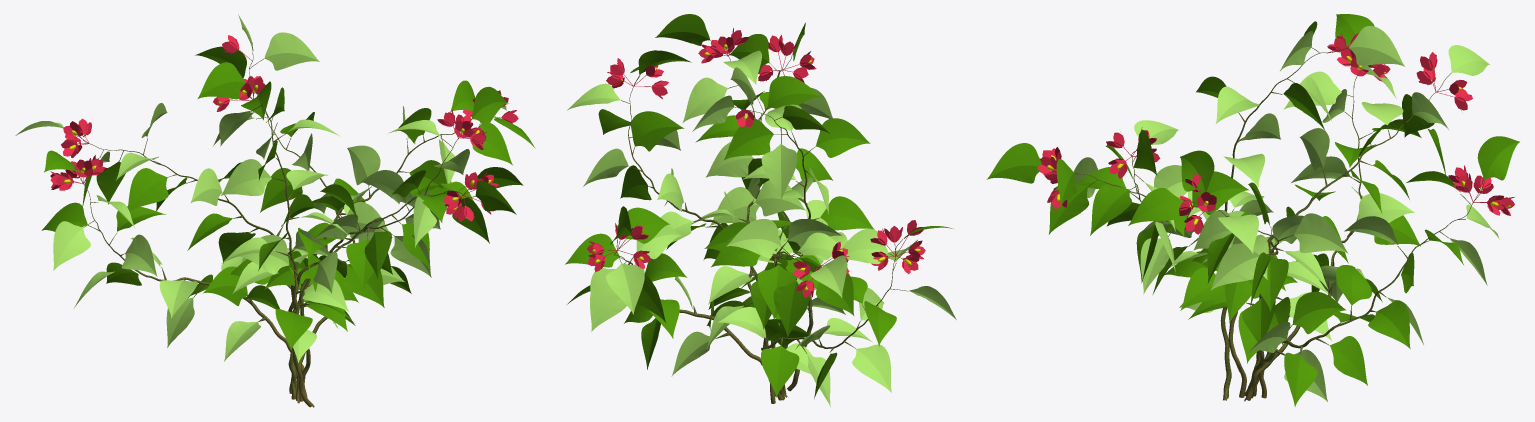
The model's file is begonia.fbx.
3 views of the same model, side by side, from view 1: azimuth 30°, elevation 25°; view 2: azimuth 150°, elevation 25°; view 3: azimuth 270°, elevation 25° (orthographic). The views are drawn at different scales.
Visible parts, largest first — view 1: TRopicFlower_MAX10GrowFX; view 2: TRopicFlower_MAX10GrowFX; view 3: TRopicFlower_MAX10GrowFX.
Part boxes in pixels (left/top/right/bottom): TRopicFlower_MAX10GrowFX: left=15, top=14, right=535, bottom=407; TRopicFlower_MAX10GrowFX: left=565, top=14, right=956, bottom=406; TRopicFlower_MAX10GrowFX: left=986, top=14, right=1519, bottom=406.
Size of the model in its own units: 1830 by 1415 by 1836.
5 materials, 1 textured.
